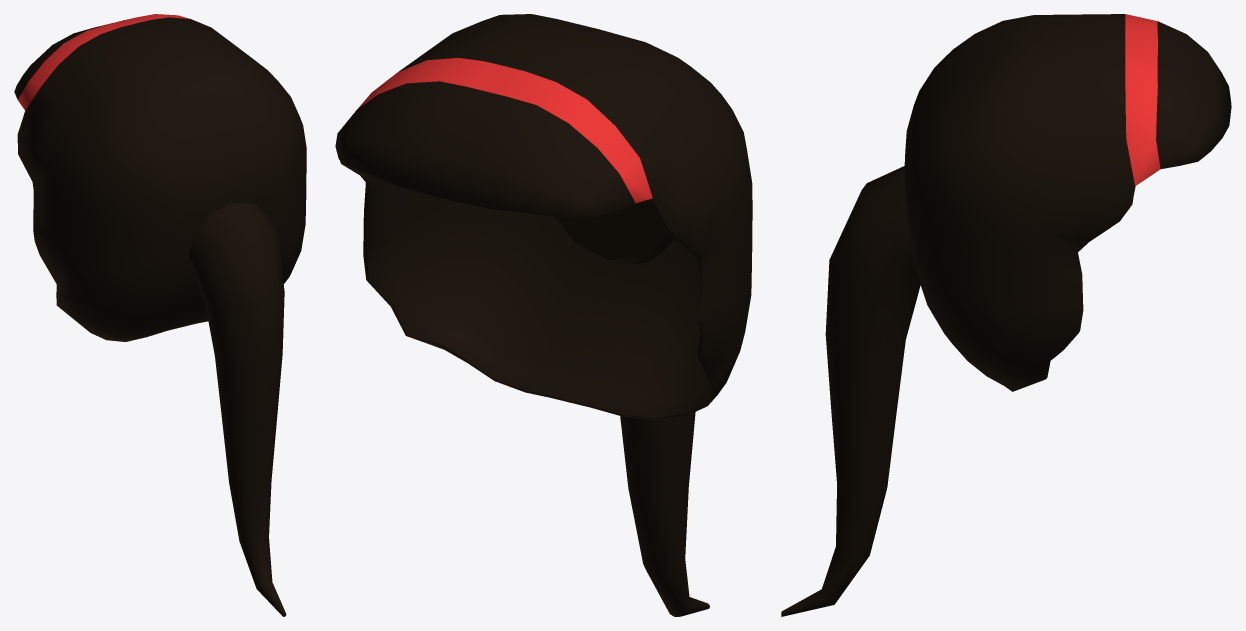
File: hair-ponytail.fbx
3 views of the same model, side by side, from view 1: azimuth 30°, elevation 25°; view 2: azimuth 150°, elevation 25°; view 3: azimuth 270°, elevation 25° (orthographic). The views are drawn at different scales.
Visible parts, largest first — view 1: Sphere.001, BézierCurve; view 2: Sphere.001, BézierCurve; view 3: Sphere.001, BézierCurve.
Part boxes in pixels (x1=…): Sphere.001: x1=14, y1=14, x2=306, y2=341; BézierCurve: x1=189, y1=202, x2=286, y2=616; Sphere.001: x1=335, y1=14, x2=752, y2=420; BézierCurve: x1=555, y1=199, x2=709, y2=616; Sphere.001: x1=904, y1=14, x2=1231, y2=391; BézierCurve: x1=781, y1=166, x2=920, y2=616.
Bounding box in the file's own units: 158 × 309 × 217.
